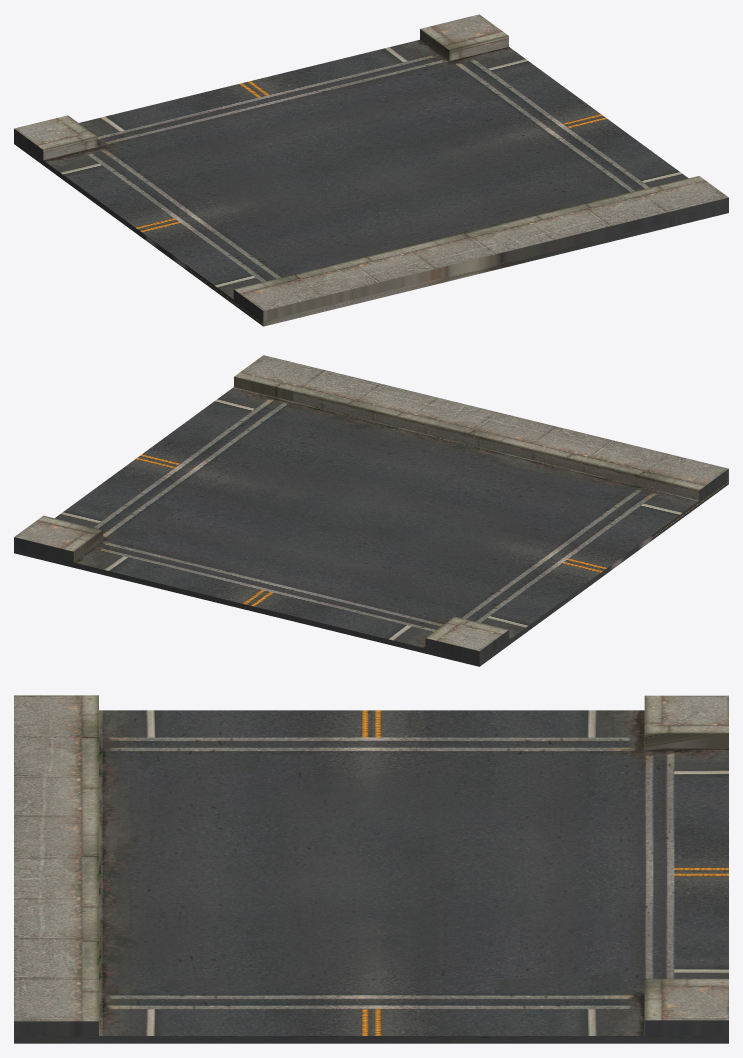
The picture shows the model from 3 angles, top to bottom: view 1: azimuth 30°, elevation 25°; view 2: azimuth 150°, elevation 25°; view 3: azimuth 270°, elevation 25°; orthographic projection. The views are drawn at different scales.
Visible parts, largest first — view 1: IamCassia_IAmCassia; view 2: IamCassia_IAmCassia; view 3: IamCassia_IAmCassia.
Part boxes in pixels (x1=…): IamCassia_IAmCassia: x1=14, y1=14, x2=728, y2=326; IamCassia_IAmCassia: x1=14, y1=355, x2=728, y2=666; IamCassia_IAmCassia: x1=14, y1=695, x2=728, y2=1043.
Bounding box in the file's own units: 5.6 × 0.1892 × 5.2.
Materials: 1 (1 with a texture image).
